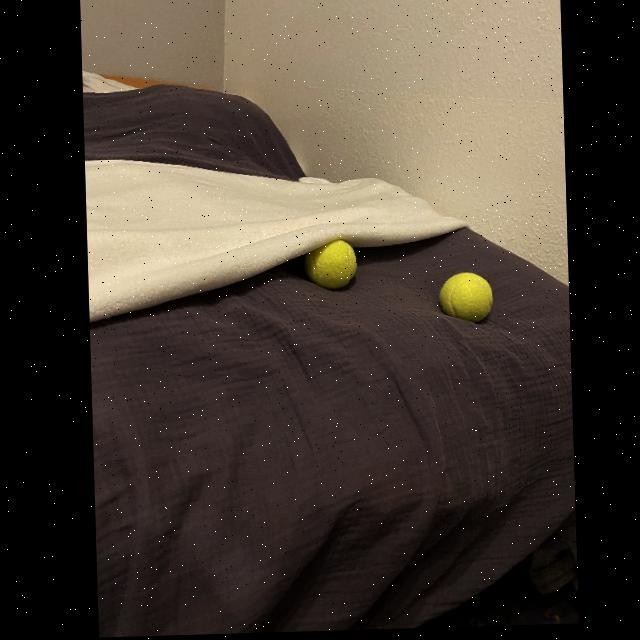Tennisball: (439, 272, 493, 323), (304, 240, 357, 290)
